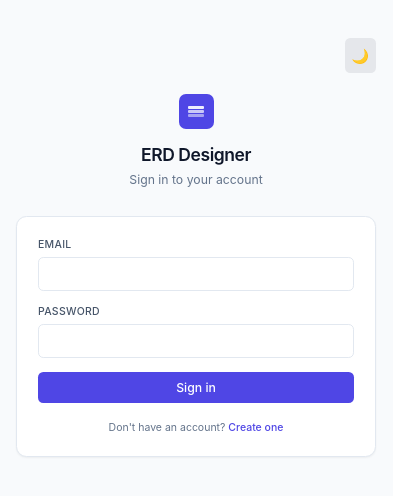
Test: LoginPage › shows error message on login failure
The image size is (393, 496).
In the field labelled "Email": {"x": 196, "y": 274} [38,257,354,291], type "wrong@example.com"
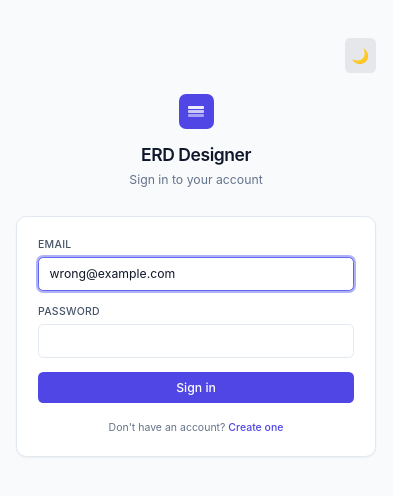
In the password field labelled "Password": {"x": 196, "y": 341} [38,324,354,358], type "wrongpass"
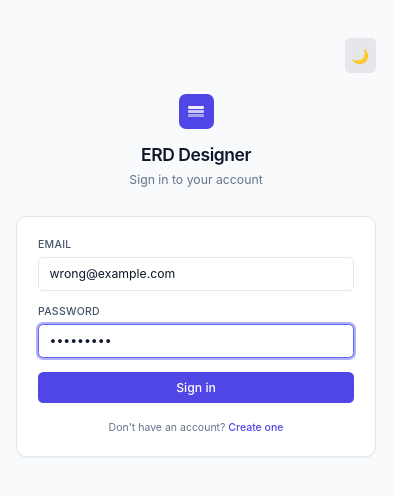
Click the button "Sign in": {"x": 196, "y": 387} [38,372,354,403]
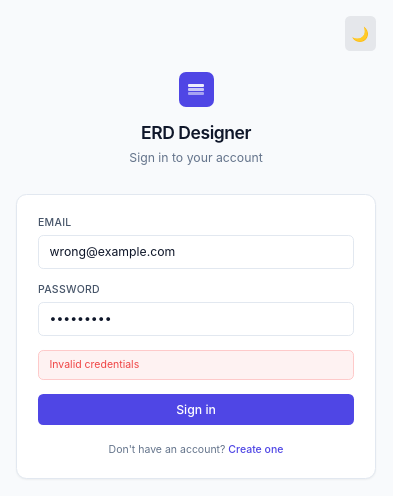
Now the message reads "Invalid credentials", box [50,358,139,370]
